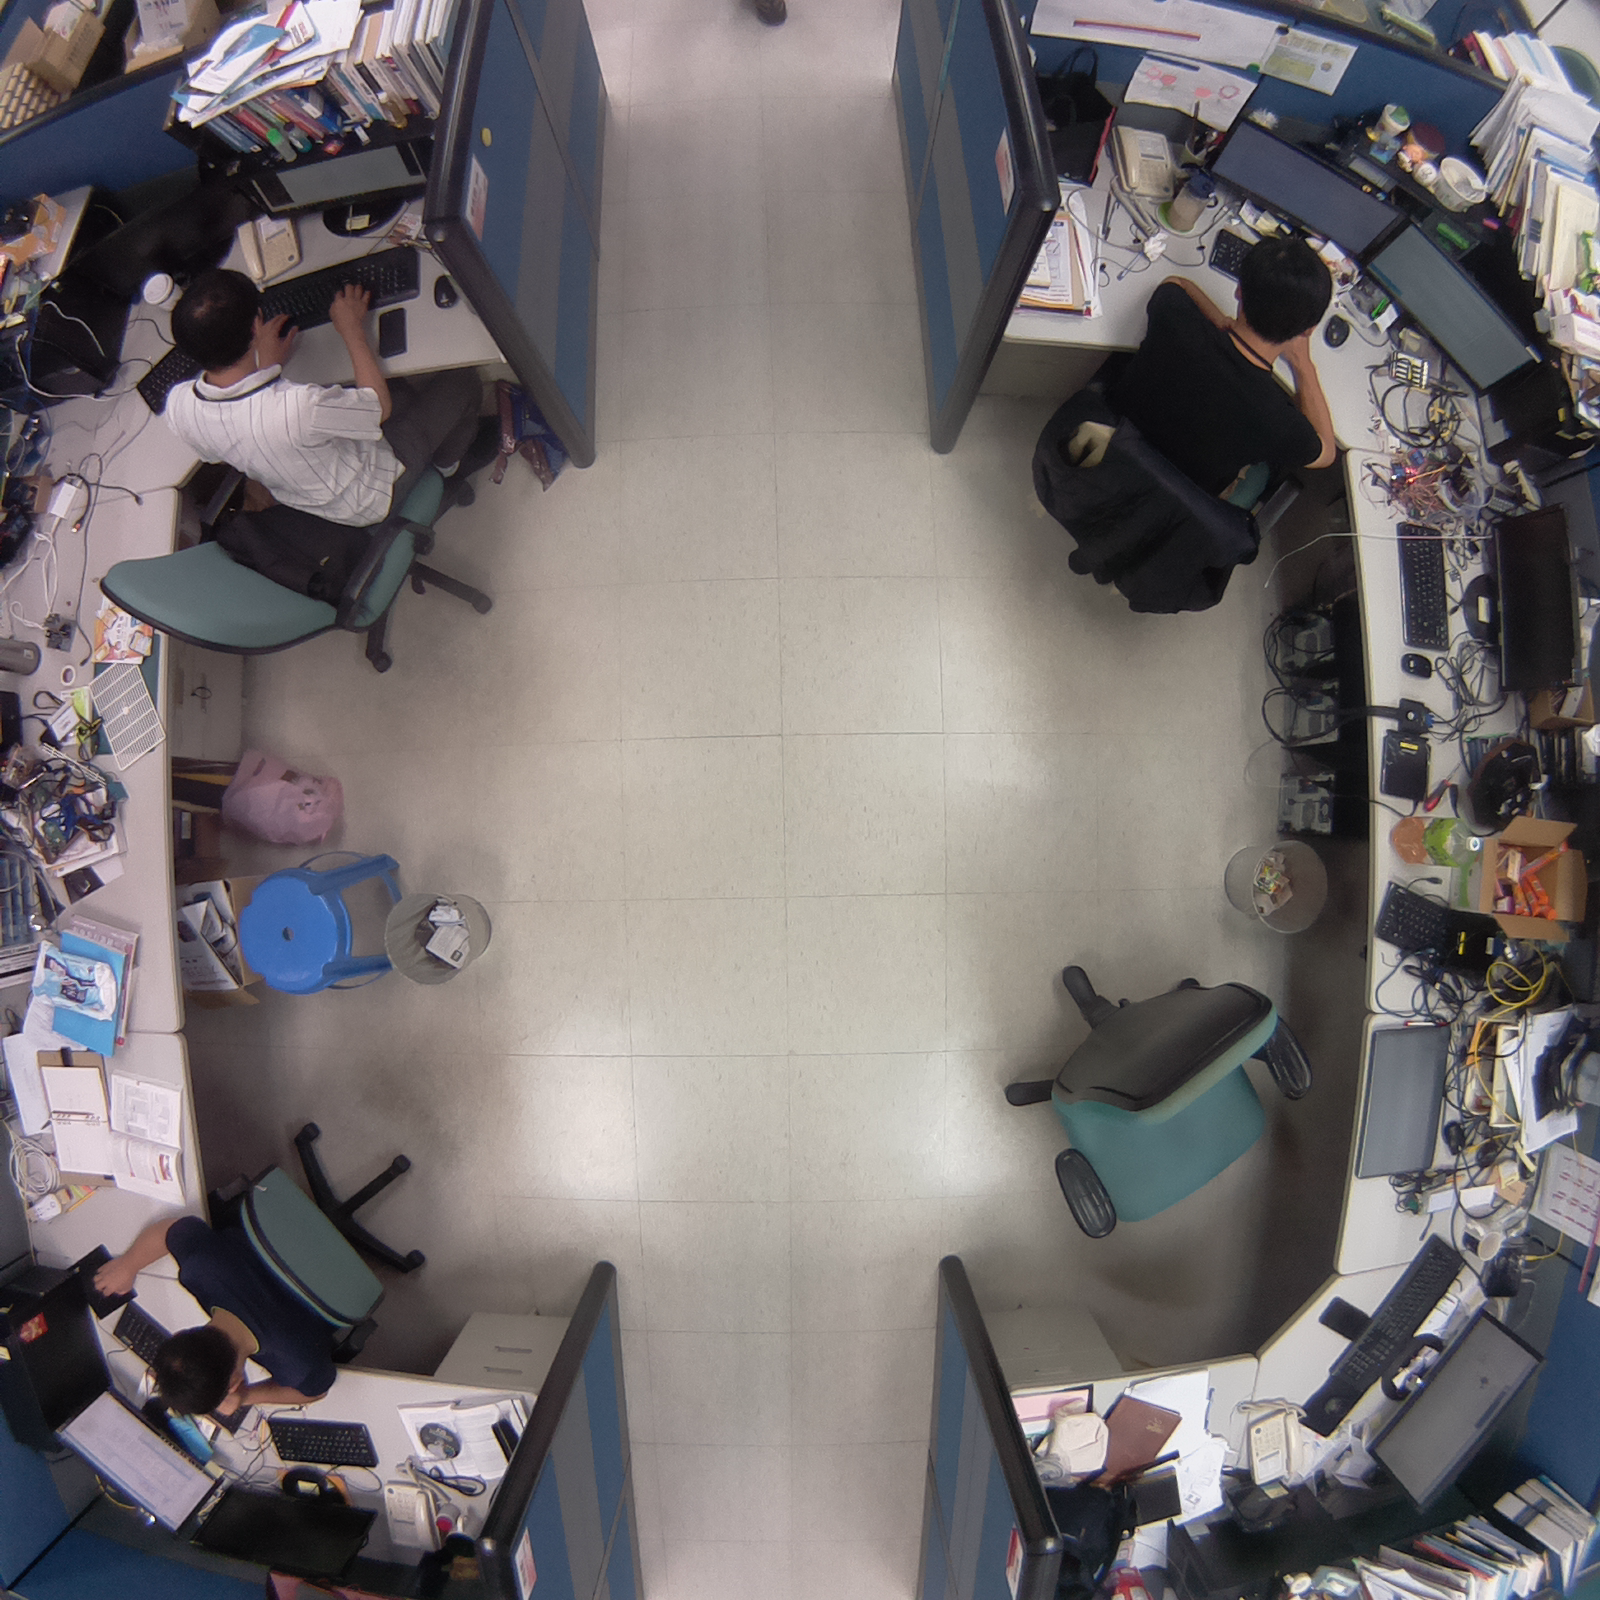chair: (996, 940, 1319, 1255)
head: (1230, 221, 1343, 354), (161, 255, 268, 377), (139, 1316, 246, 1427)
sitting: (94, 269, 519, 686), (1009, 229, 1347, 637), (78, 1111, 455, 1437)
